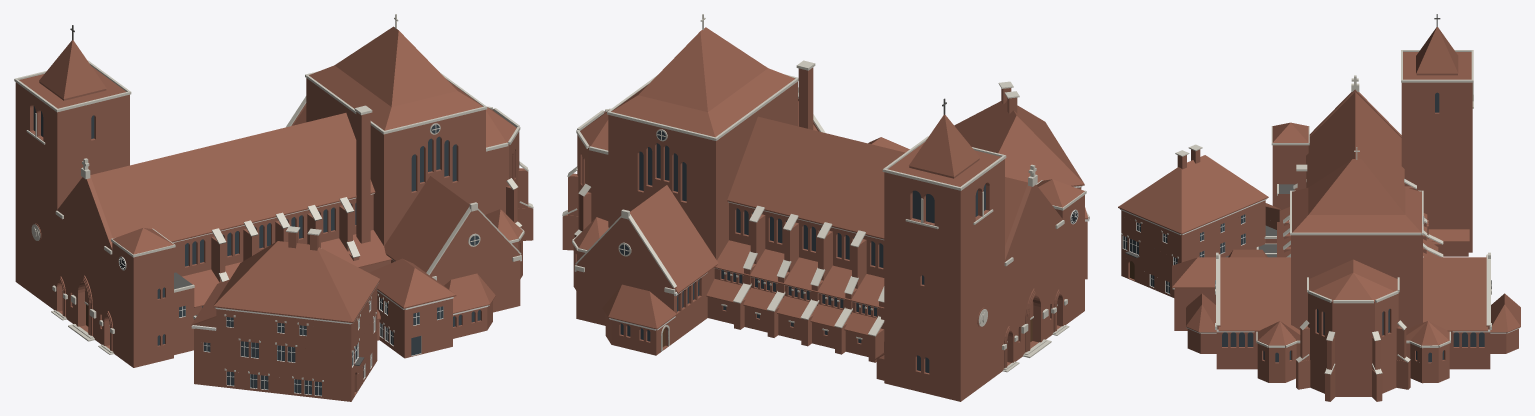
Rendered from hofkerk.glb.
3 views of the same model, side by side, from view 1: azimuth 30°, elevation 25°; view 2: azimuth 150°, elevation 25°; view 3: azimuth 270°, elevation 25° (orthographic). The views are drawn at different scales.
Parts seen in each view (by area): view 1: hofkerk; view 2: hofkerk; view 3: hofkerk.
Part boxes in pixels (<box>): hofkerk: <box>14,14,533,401</box>; hofkerk: <box>562,14,1089,401</box>; hofkerk: <box>1118,14,1520,401</box>.
Bounding box in the file's own units: 59.19 × 33.8 × 55.26.
